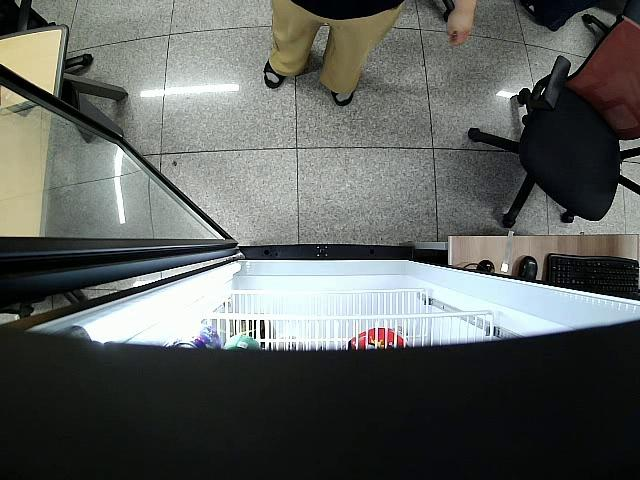00_hand: (445, 11, 475, 47)
